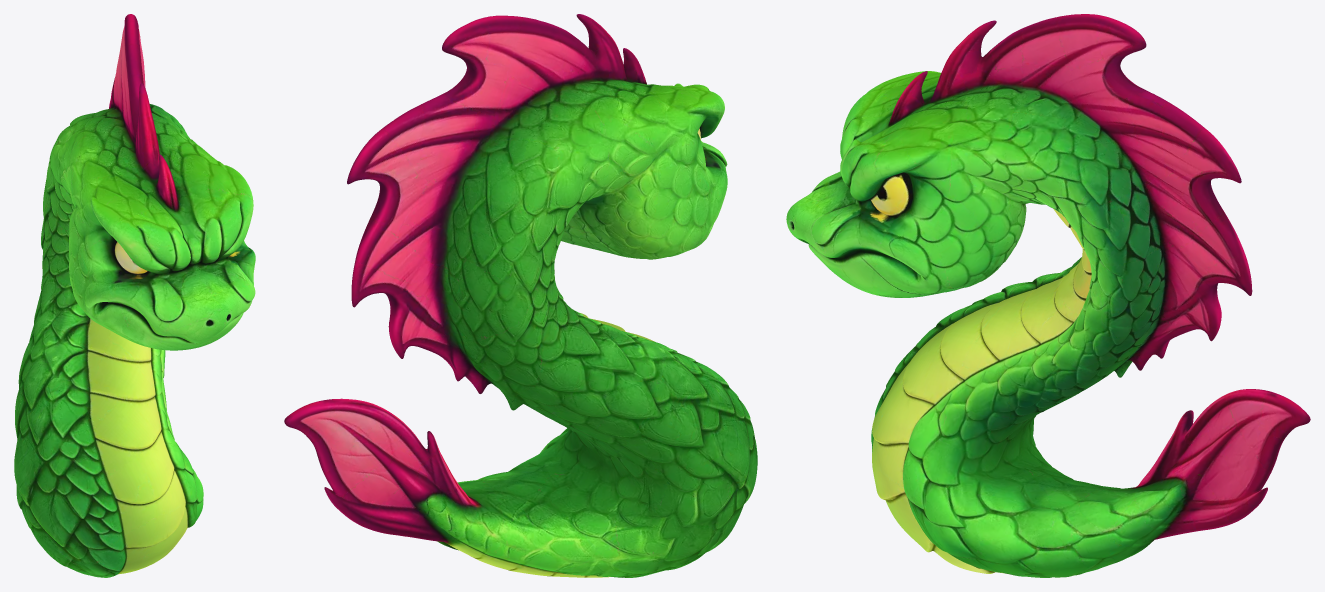
File: 3d_gus.glb
The picture shows the model from 3 angles, left to right: view 1: azimuth 30°, elevation 25°; view 2: azimuth 150°, elevation 25°; view 3: azimuth 270°, elevation 25°; orthographic projection. The views are drawn at different scales.
Size of the model in its own units: 1.03 by 1.9 by 1.56.
1 material, 1 textured.
